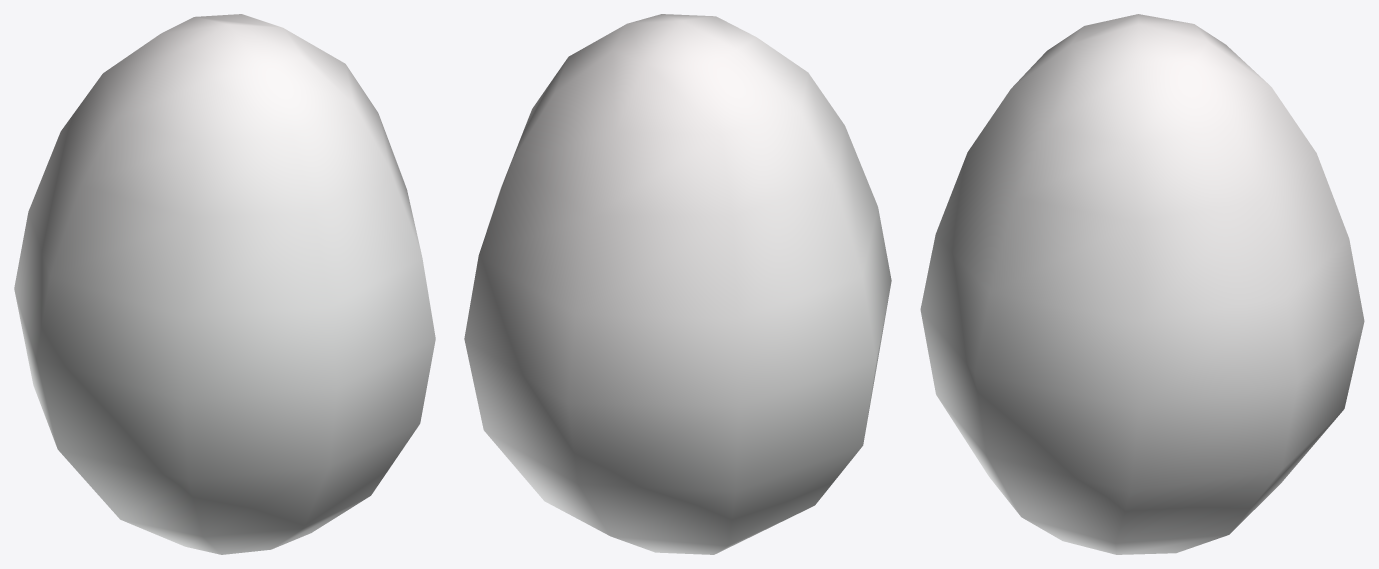
File: Egg.fbx
3 renders of one model, left to right at view 1: azimuth 30°, elevation 25°; view 2: azimuth 150°, elevation 25°; view 3: azimuth 270°, elevation 25°, orthographic.
Parts seen in each view (by area): view 1: Egg_mod; view 2: Egg_mod; view 3: Egg_mod.
Boxes of the visible parts, x1,y1,x2,y2 form: Egg_mod: (14,14,435,554); Egg_mod: (464,14,891,554); Egg_mod: (920,14,1364,554).
Size of the model in its own units: 0.4197 by 0.5349 by 0.4174.
